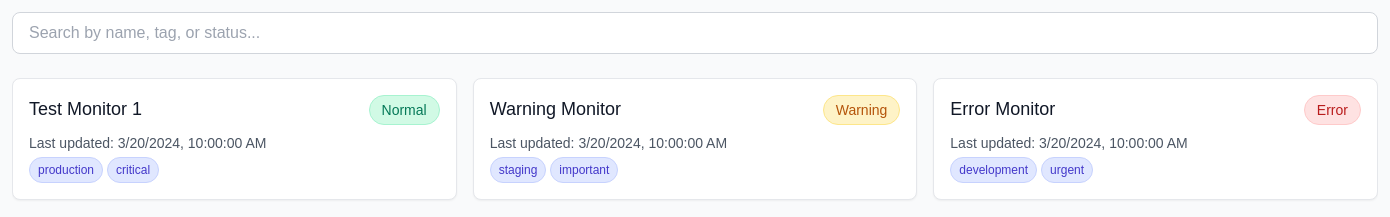
Test: MonitorsGrid › filters monitors when searching
The image size is (1390, 217).
Type "Warning" into the field with test id "search-input".
click(695, 33); type("Warning")  # box [12,12,1378,54]
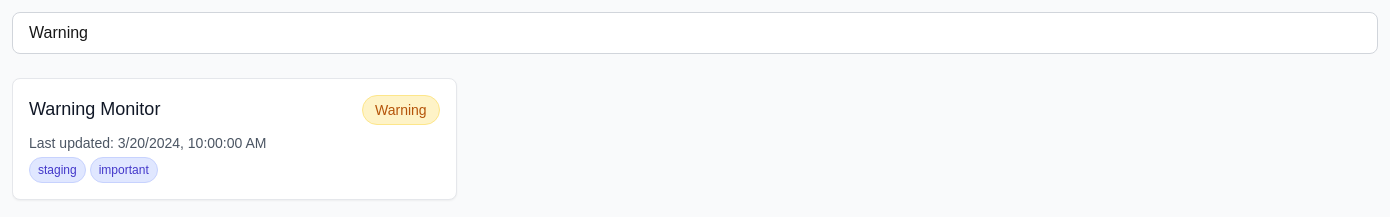
Expected: the heading "Warning Monitor" is shown, [29,95,160,123]
Result: the number of links with test id "monitor-card" is 1 at [12,78,457,200]
